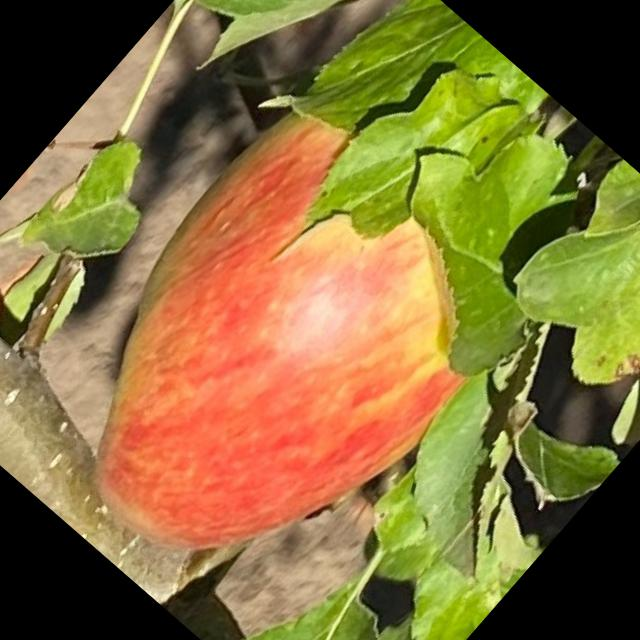Apples: (11, 91, 538, 628)
